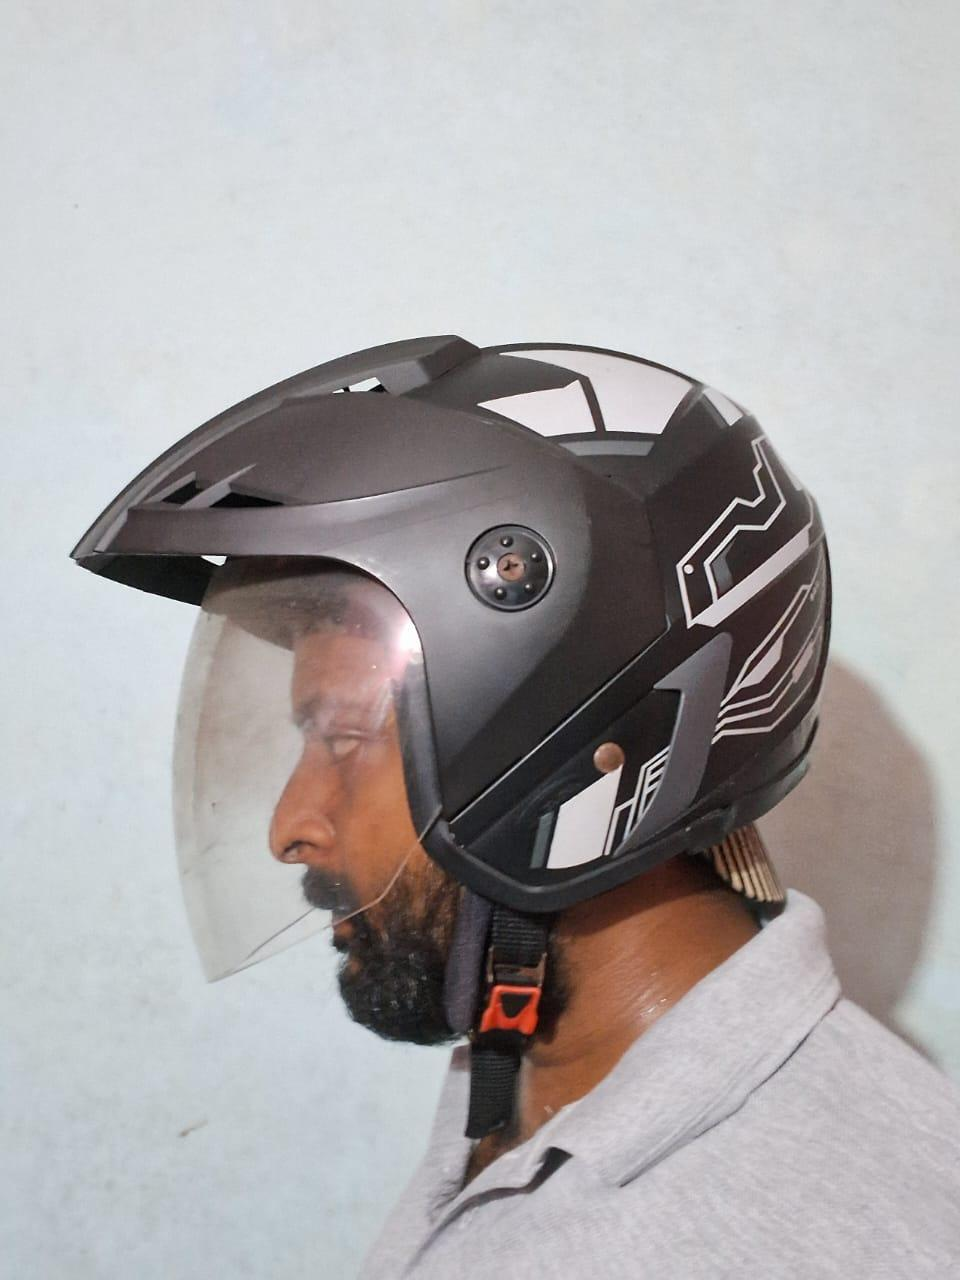helmet: (61, 330, 836, 990)
